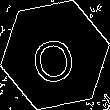O_N: (30, 26, 80, 84)
